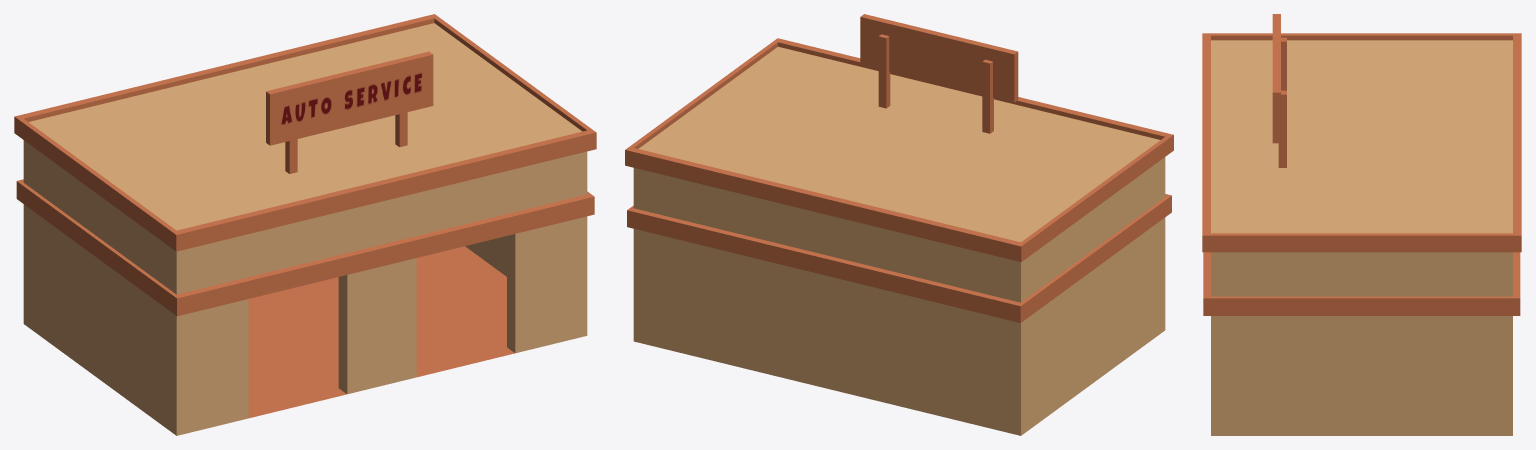
File: Garrage_1.FBX
The picture shows the model from 3 angles, left to right: view 1: azimuth 30°, elevation 25°; view 2: azimuth 150°, elevation 25°; view 3: azimuth 270°, elevation 25°; orthographic projection. The views are drawn at different scales.
Visible parts, largest first — view 1: Garrage 01; view 2: Garrage 01; view 3: Garrage 01.
Boxes of the visible parts, x1,y1,x2,y2 form: Garrage 01: (14, 14, 596, 435); Garrage 01: (625, 14, 1173, 435); Garrage 01: (1202, 14, 1521, 435).
Size of the model in its own units: 7.84 by 5.14 by 5.23.
1 material, 1 textured.
